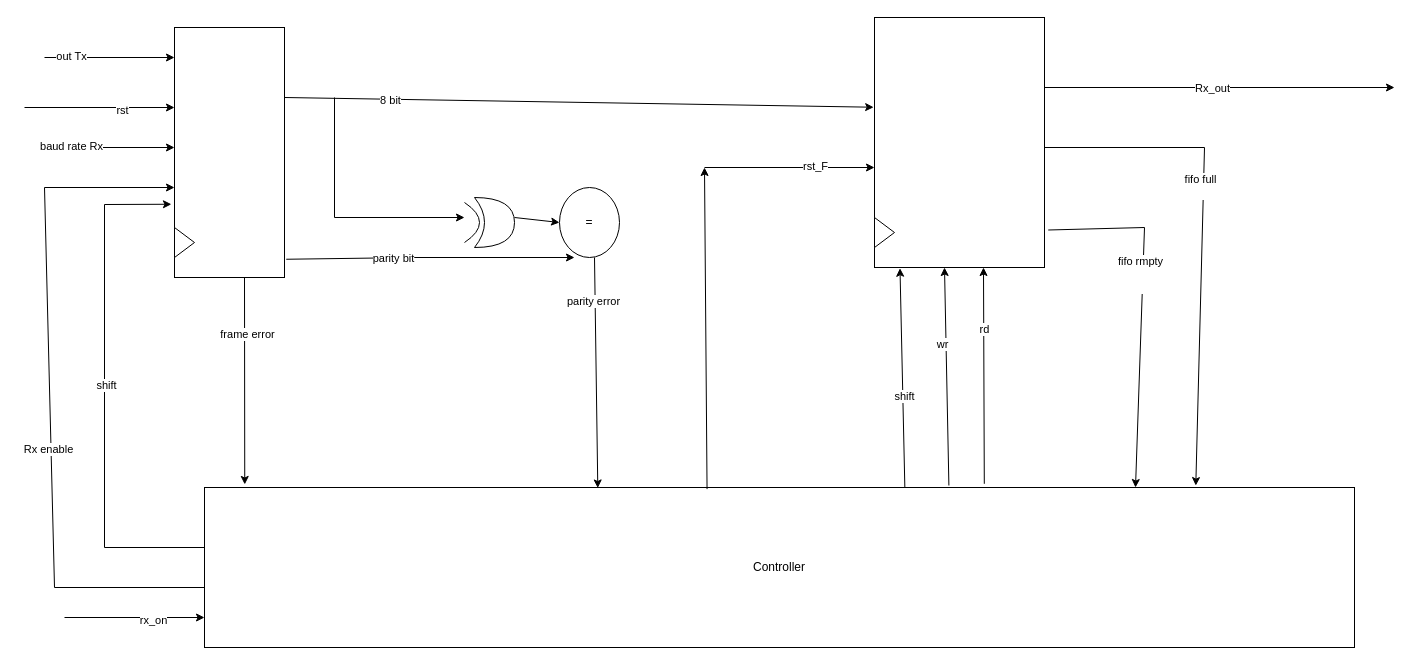
This 1420x665 diagram has some shape labels left out. Each missing label, with the box of its shape:
FIFO Rx: (874, 16, 1044, 268)
shift reg: (174, 26, 284, 278)
